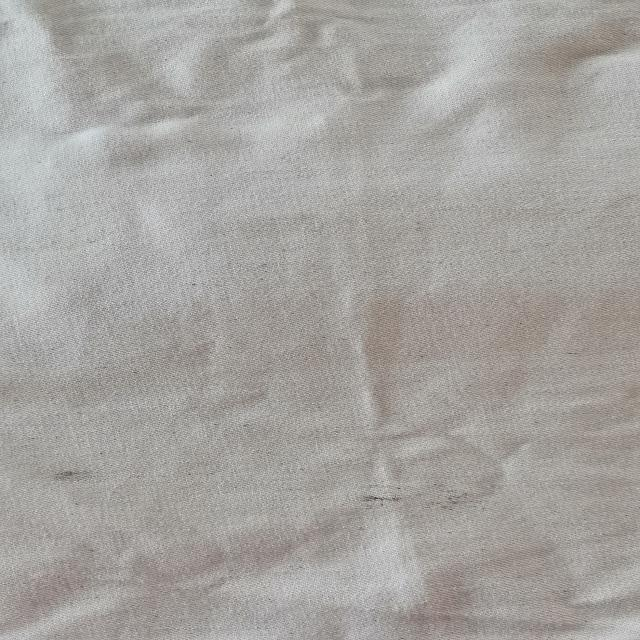taaaches: (339, 477, 499, 512), (24, 459, 126, 496)
